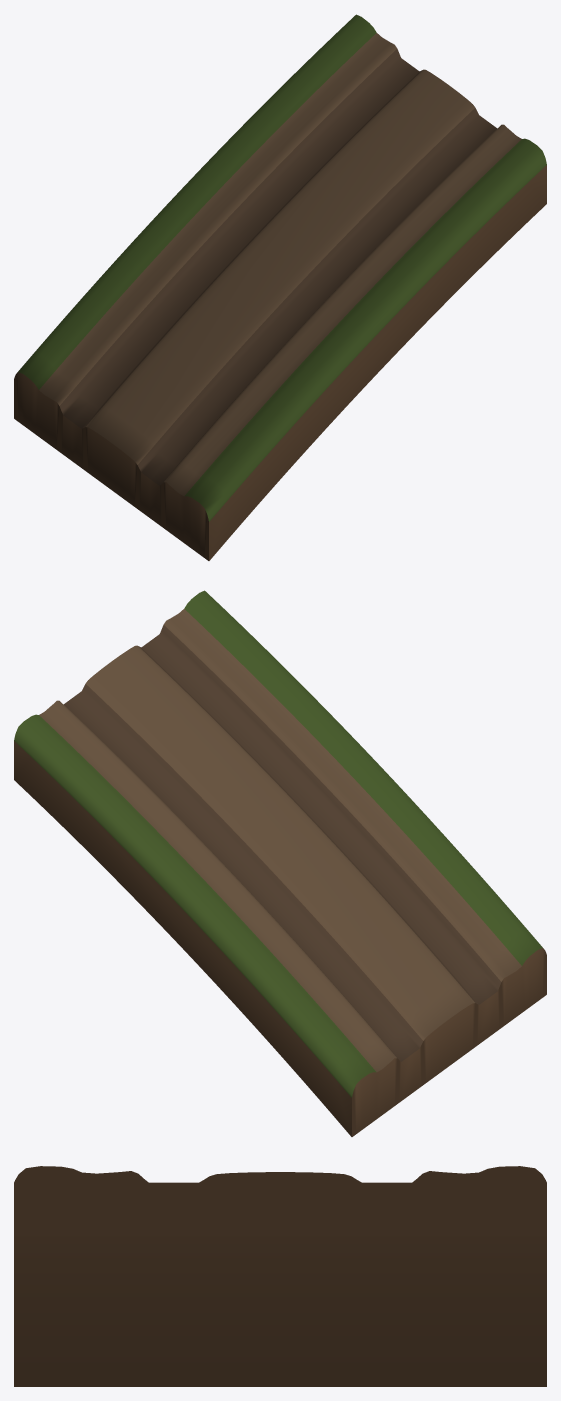
3 views of the same model, one above another, from view 1: azimuth 30°, elevation 25°; view 2: azimuth 150°, elevation 25°; view 3: azimuth 270°, elevation 25° (orthographic). The views are drawn at different scales.
Parts seen in each view (by area): view 1: e34o; view 2: e34o; view 3: e34o.
Part boxes in pixels (<box>): e34o: <box>14,14,546,560</box>; e34o: <box>14,590,546,1136</box>; e34o: <box>14,1166,546,1386</box>.
Size of the model in its own units: 9 by 8.31 by 9.
